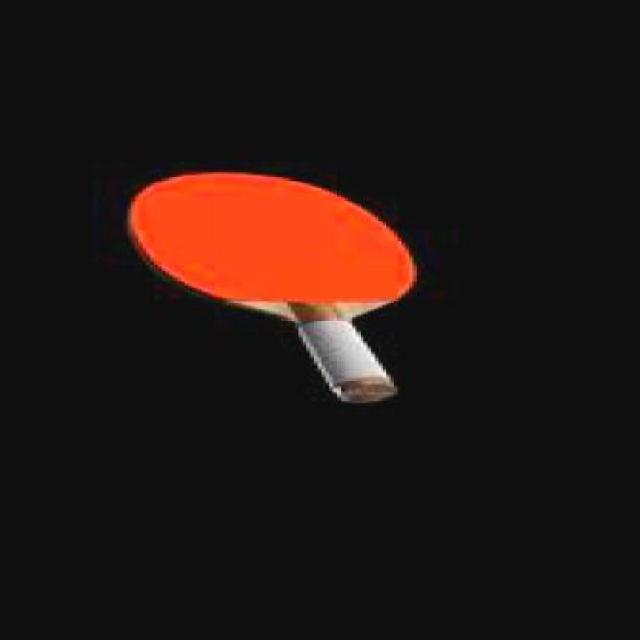table_tennis_racket: (128, 172, 420, 403)
